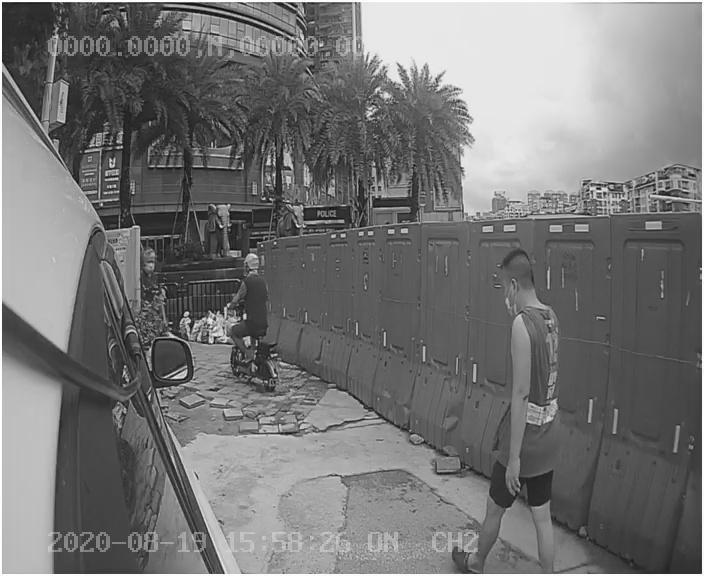person: (462, 248, 584, 563)
